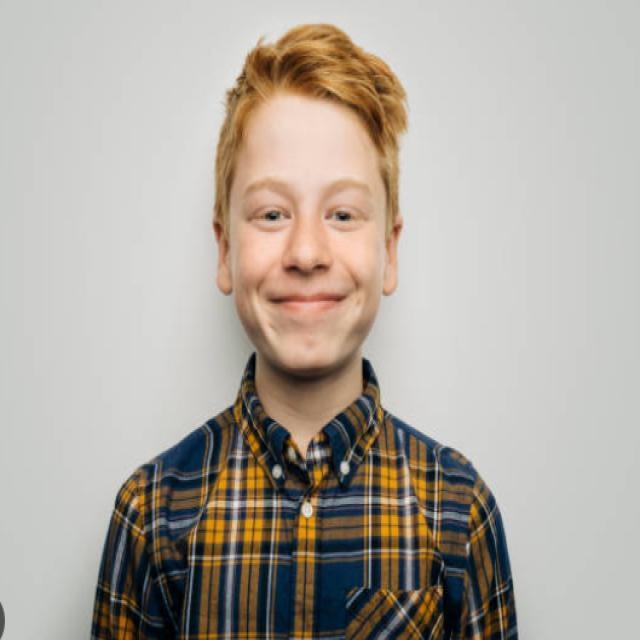face_no_mask: (211, 107, 404, 378)
